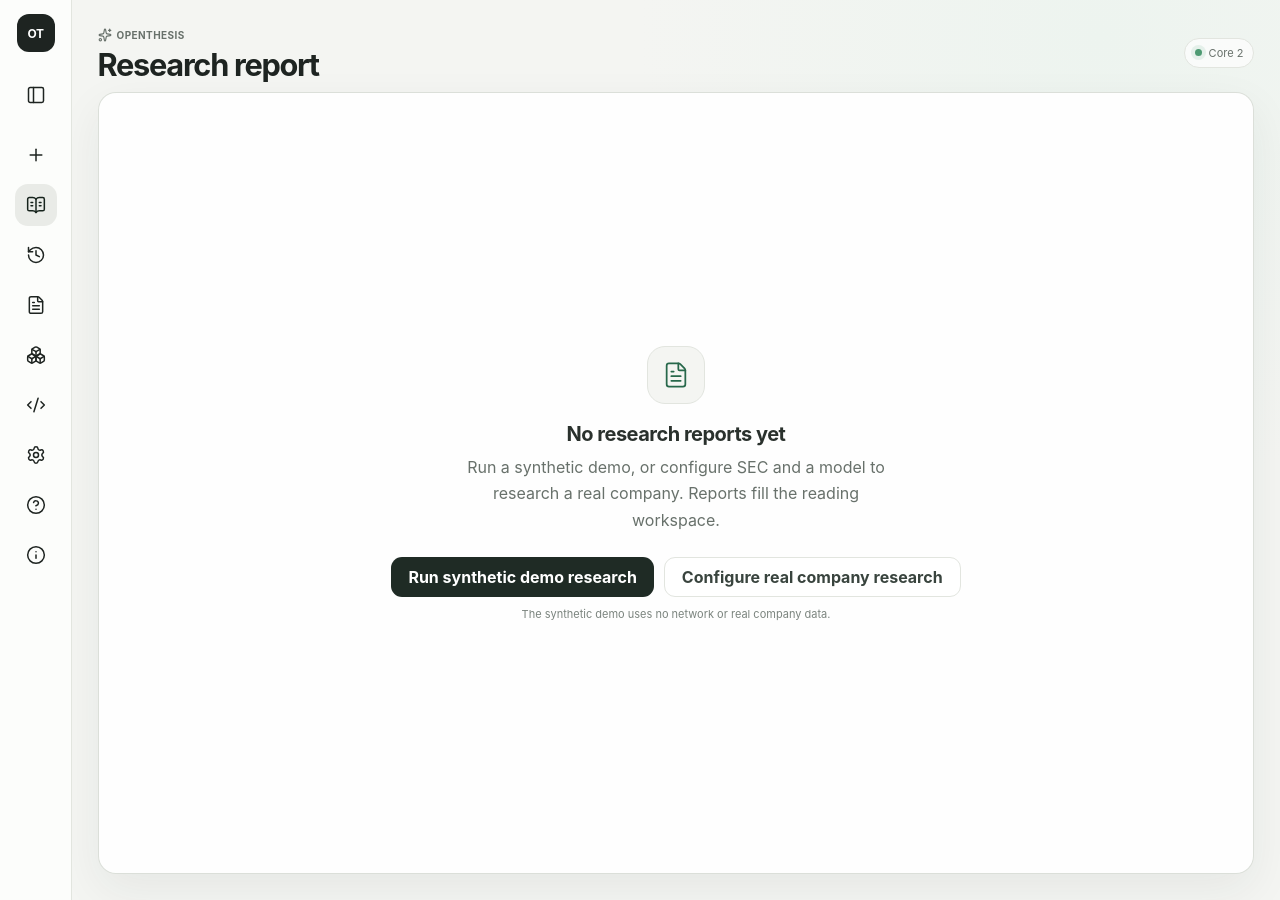
Test: report-first workbench › opens the bilingual help center with both built-in guides
This screenshot has width=1280, height=900.
Click the button named "Help" at (36, 505), box [14, 484, 56, 526]
(page scrolled)
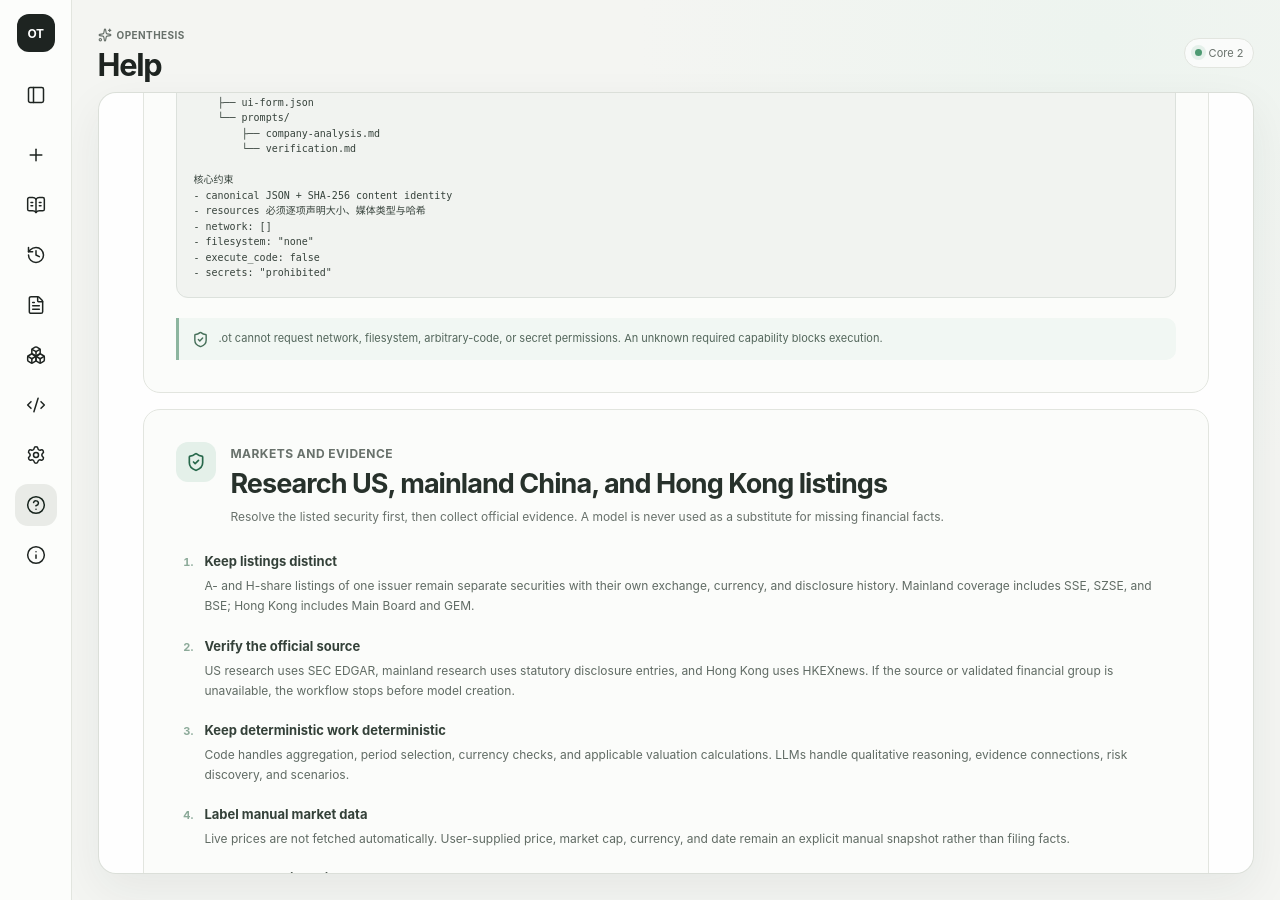
Now the heading "Help" is shown, box [98, 46, 161, 83]
Now the heading "Research US, mainland China, and Hong Kong listings" is shown, box [230, 466, 887, 500]
